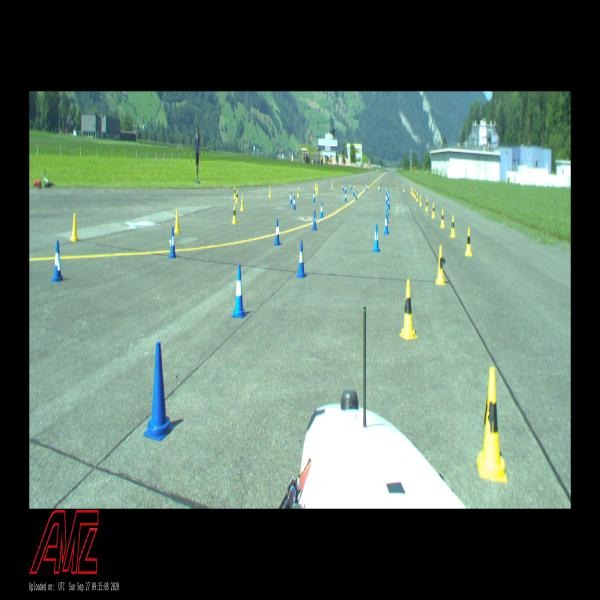blue_cone: (144, 342, 174, 441), (232, 265, 247, 318), (50, 241, 64, 282), (296, 241, 307, 277), (168, 227, 177, 258), (372, 223, 380, 252), (274, 219, 280, 245), (384, 213, 389, 234), (312, 210, 317, 230), (320, 201, 324, 218), (386, 206, 389, 224), (292, 196, 296, 209), (344, 190, 347, 201), (312, 191, 315, 202), (290, 192, 292, 204), (387, 205, 389, 216), (355, 189, 357, 200), (388, 198, 390, 208), (342, 183, 344, 191), (344, 185, 346, 193), (353, 188, 355, 195), (366, 183, 368, 190), (350, 183, 352, 190), (379, 184, 381, 191), (386, 191, 387, 204), (386, 186, 388, 192), (388, 191, 389, 200)
yellow_cone: (477, 367, 507, 483), (399, 280, 418, 339), (435, 246, 446, 284), (70, 214, 79, 241), (465, 228, 472, 256), (450, 214, 456, 238), (174, 209, 180, 233), (232, 204, 237, 224), (440, 209, 445, 228), (240, 195, 245, 211), (235, 189, 239, 203), (268, 186, 272, 198), (432, 203, 435, 218), (425, 198, 428, 211), (419, 194, 422, 206), (233, 186, 236, 198), (297, 187, 300, 197), (416, 192, 419, 202), (315, 186, 318, 196), (414, 189, 416, 198), (402, 184, 404, 192), (412, 188, 414, 196), (331, 180, 333, 188), (317, 185, 319, 193), (354, 180, 355, 188), (411, 186, 412, 194), (315, 182, 316, 190), (378, 183, 379, 189)
